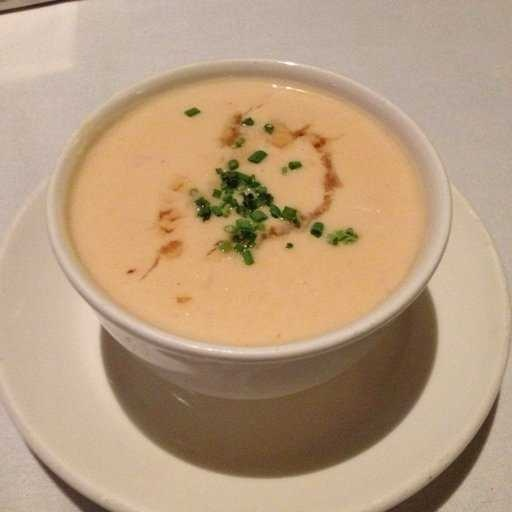soup: (56, 86, 451, 318)
